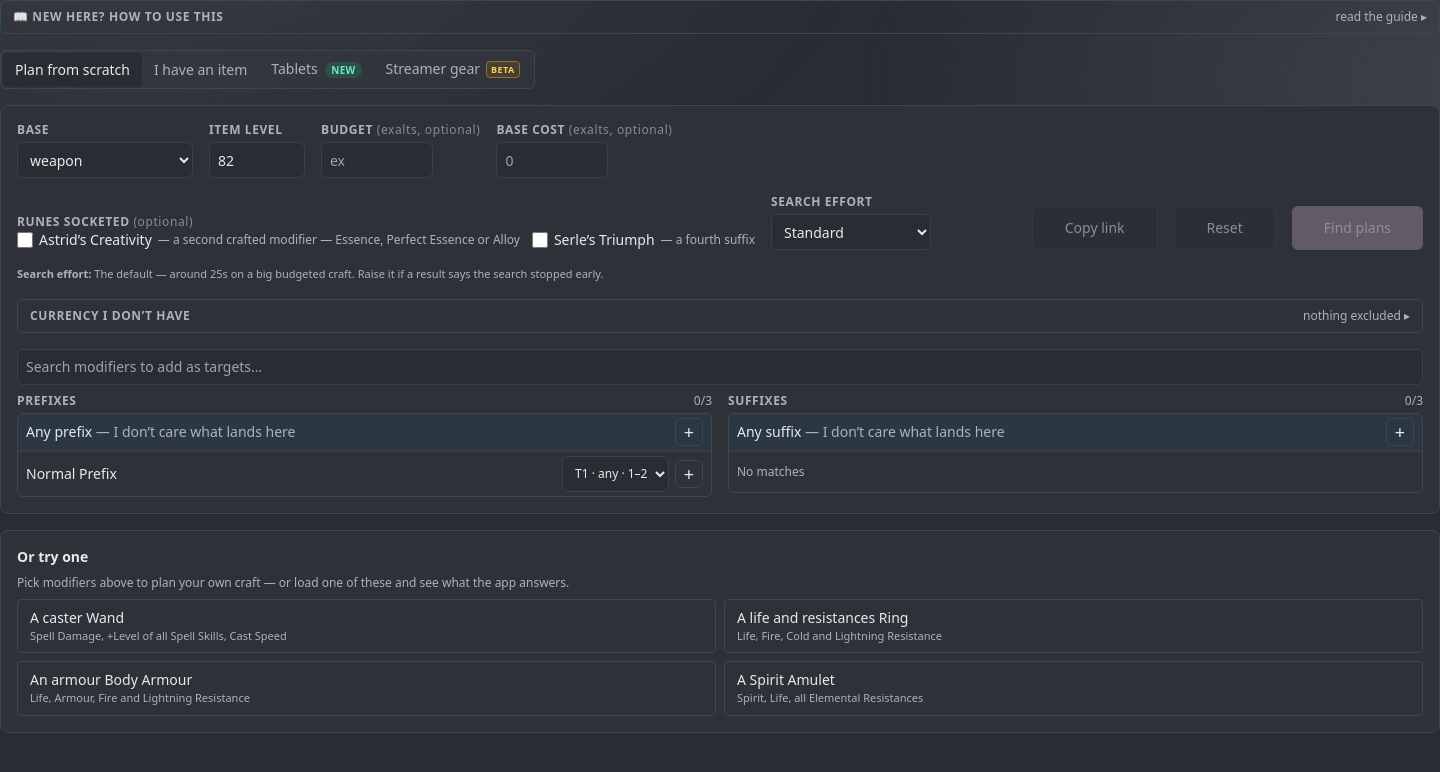
EngineLab — a solve that fails because the site moved on › shows the reload notice, not a planner error
The image size is (1440, 772).
Expected: the field with placeholder "Search modifiers to add as targets…" is shown, [17,349,1423,385]
What coordinates should you click on to do the following:
click the button named "Add Normal Prefix"
I would click on:
 (689, 474)
Its box is [675,460,703,488].
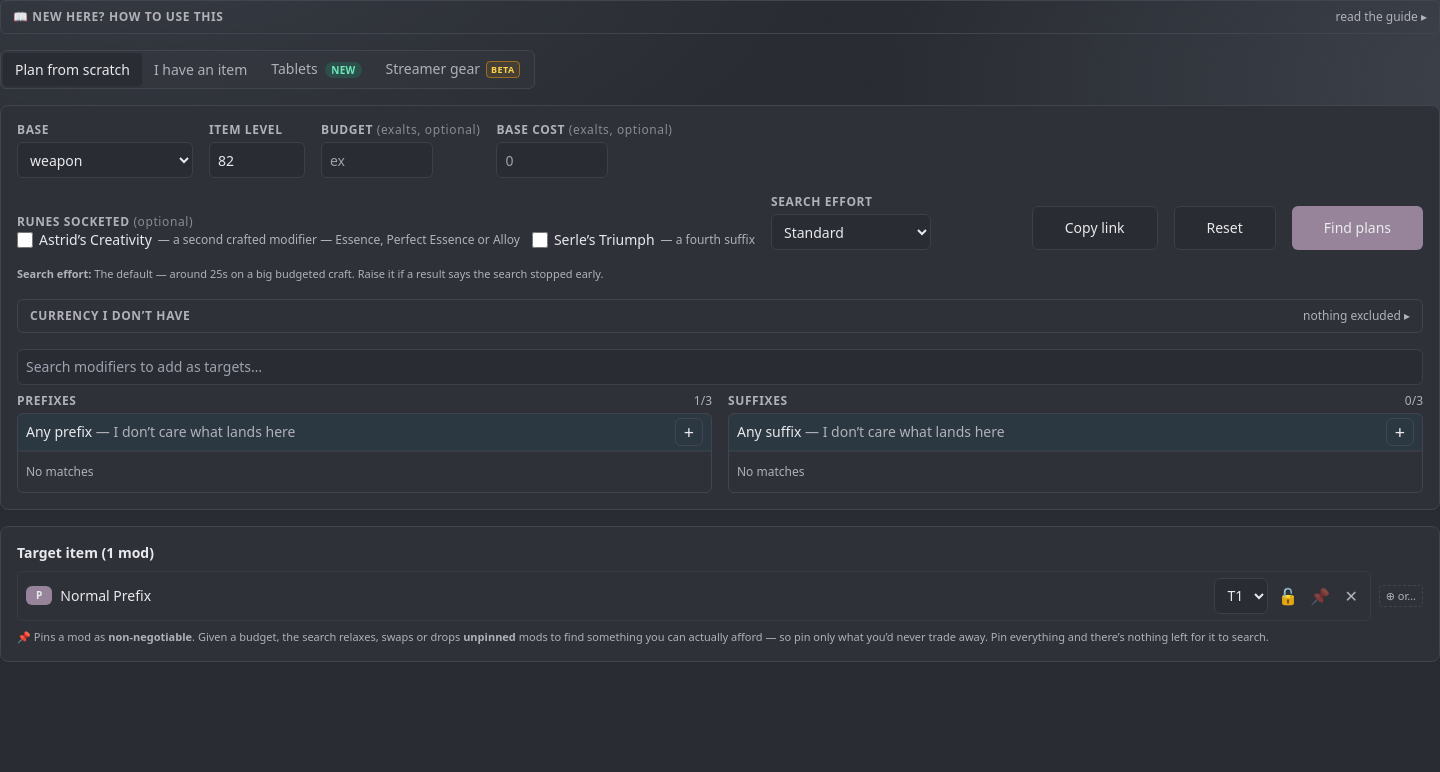
What coordinates should you click on to do the following:
click the button "Find plans"
I would click on:
 (1357, 228)
Its box is [1292,206,1423,250].
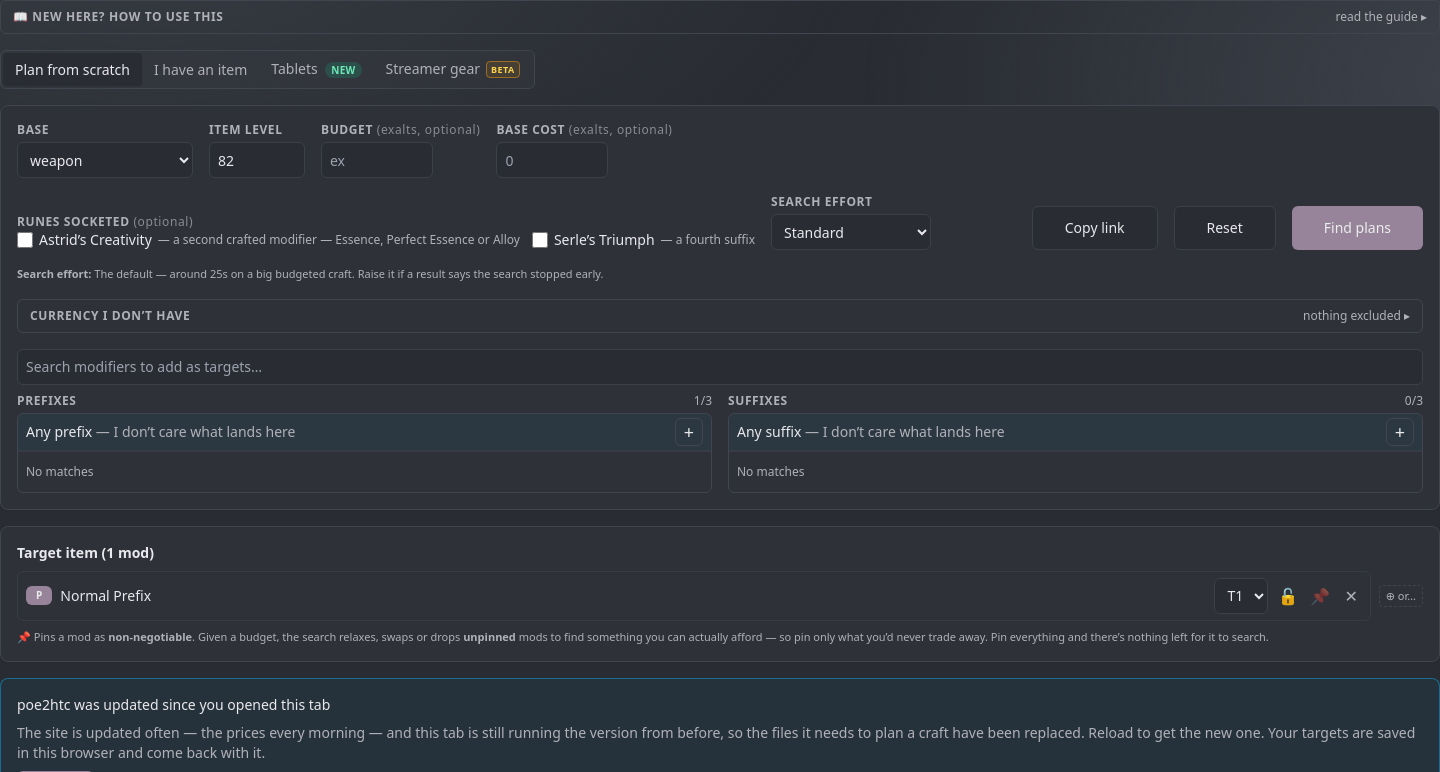
Expected: the text "poe2htc was updated since you opened this tab" is shown, [17,695,330,714]
